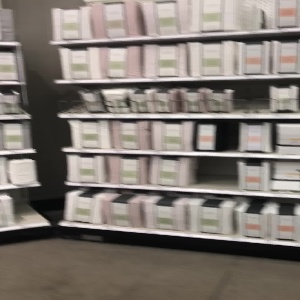void: (190, 158, 238, 190), (233, 80, 269, 115), (15, 188, 48, 226), (57, 84, 84, 115)
